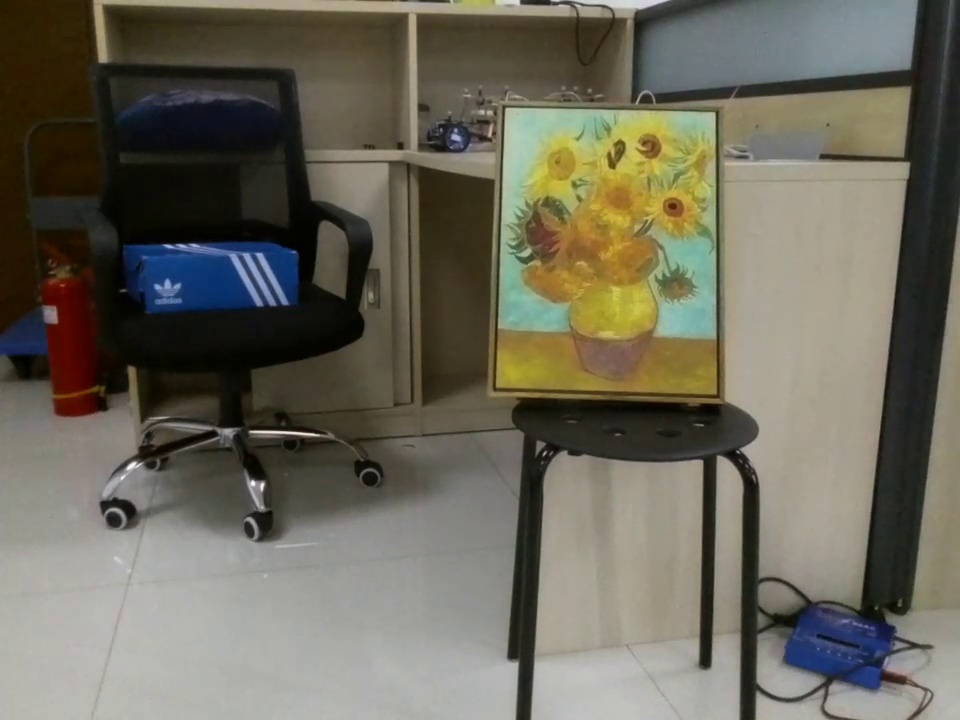painting: (483, 99, 741, 410)
